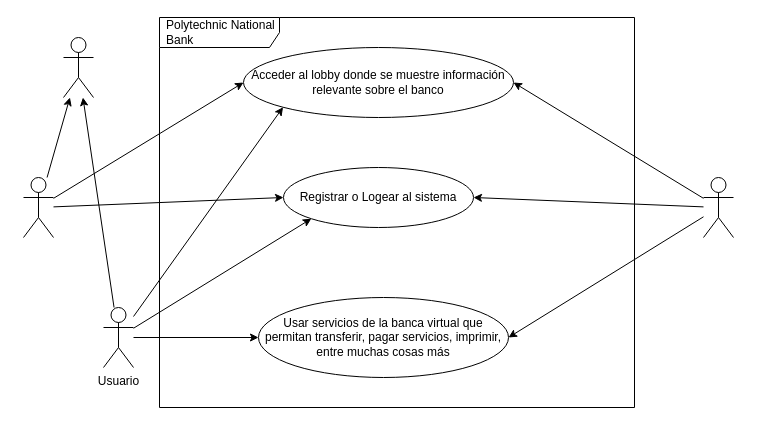
Image size: 757x425. Some labels were removed from this diagram. Here are the shapes that lost their labels. From the top down, the box of each, then its label:
(62, 36, 94, 98): Persona
(22, 176, 54, 238): Invitado
(702, 176, 734, 238): Sistema
